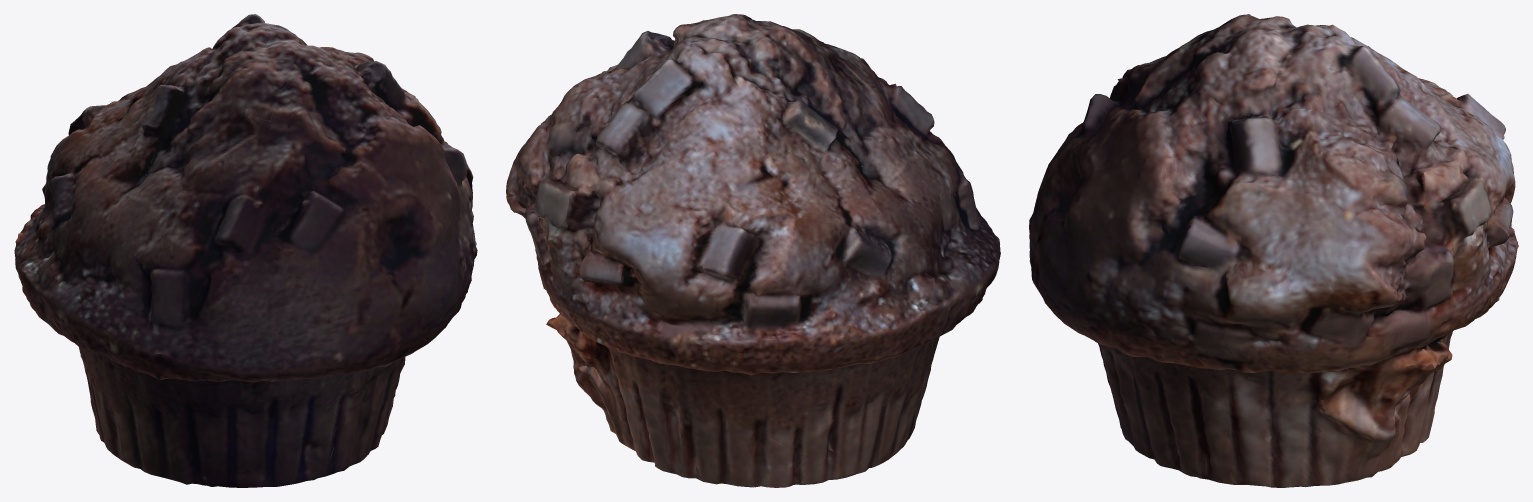
File: 1772555573_chocolate_muffin.glb
3 views of the same model, side by side, from view 1: azimuth 30°, elevation 25°; view 2: azimuth 150°, elevation 25°; view 3: azimuth 270°, elevation 25° (orthographic). The views are drawn at different scales.
Visible parts, largest first — view 1: Object_4; view 2: Object_4; view 3: Object_4.
Boxes of the visible parts, bbox=[...] form: Object_4: bbox=[14, 14, 477, 487]; Object_4: bbox=[506, 14, 1000, 487]; Object_4: bbox=[1029, 14, 1518, 487].
Bounding box in the file's own units: 0.0898 × 0.0798 × 0.0862.
1 material, 1 textured.
